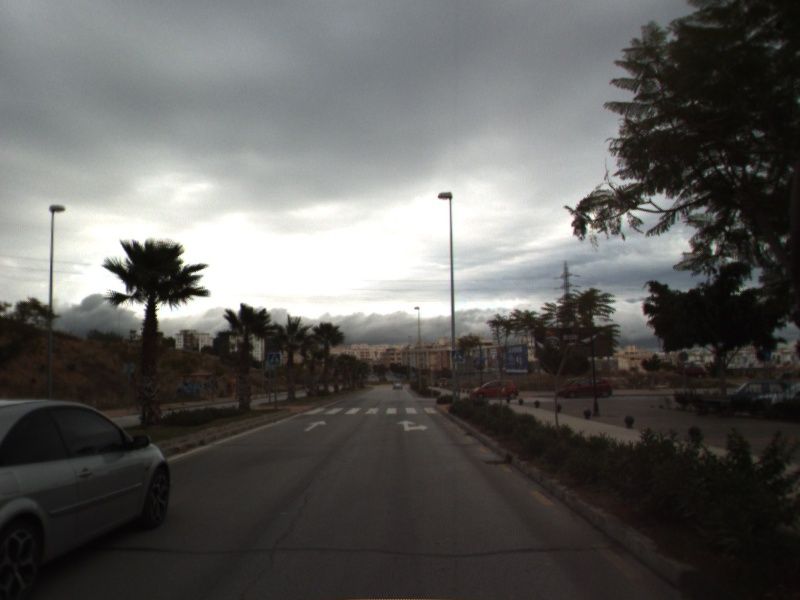STRAIGHT: (302, 418, 329, 433)
STRAIGHT_RIGHT: (395, 418, 430, 433)
